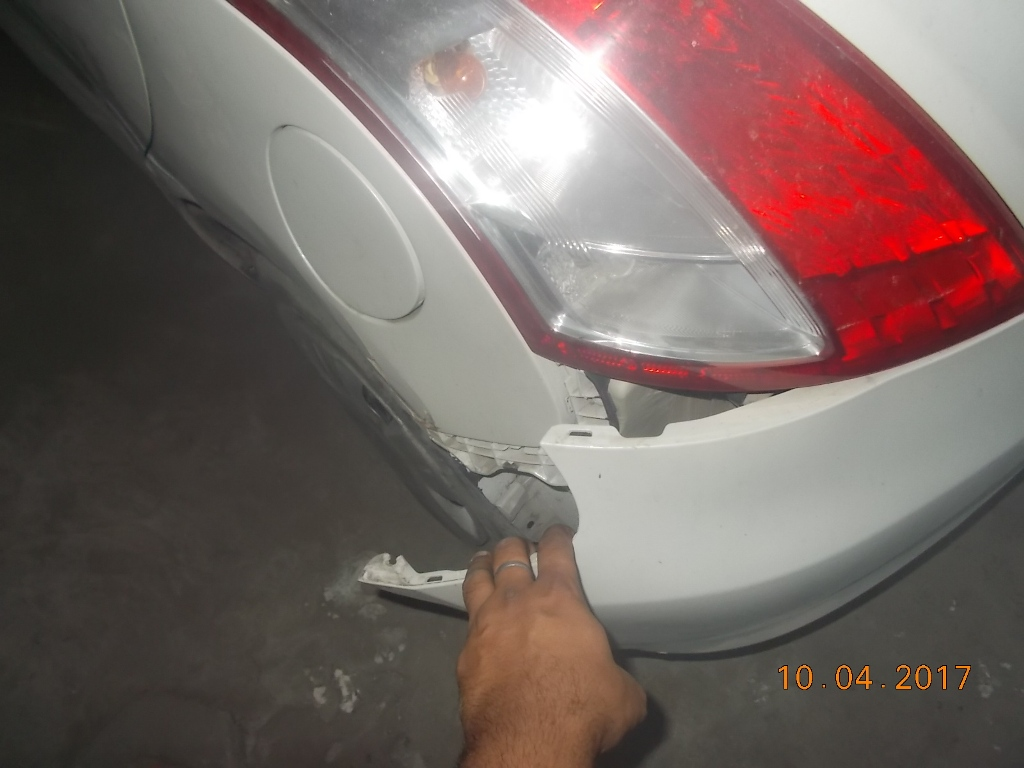Dislocation: (378, 427, 601, 641)
